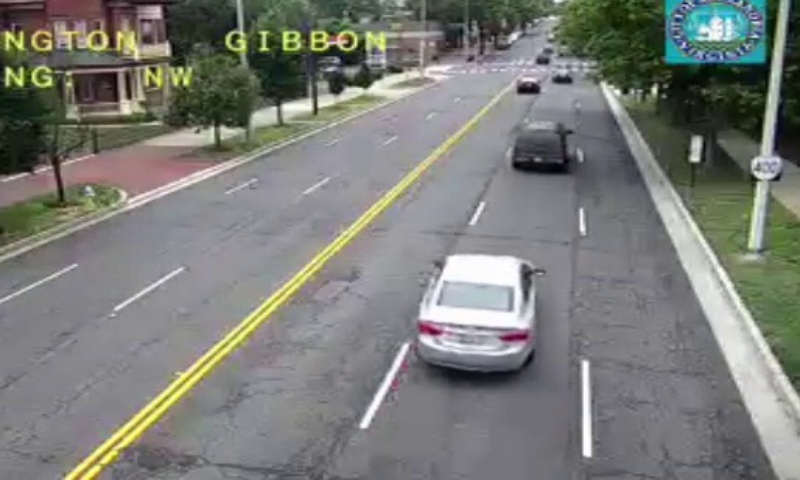car: (417, 255, 536, 373), (513, 120, 568, 168)
